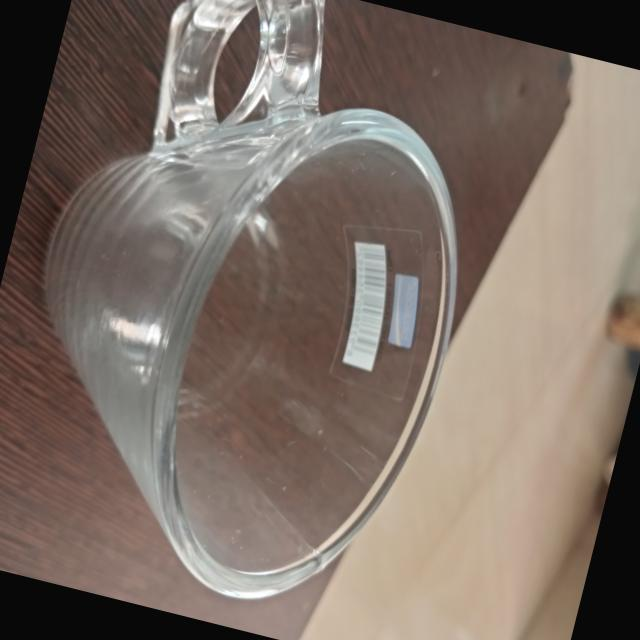glass-VX4N: (0, 0, 522, 637)
